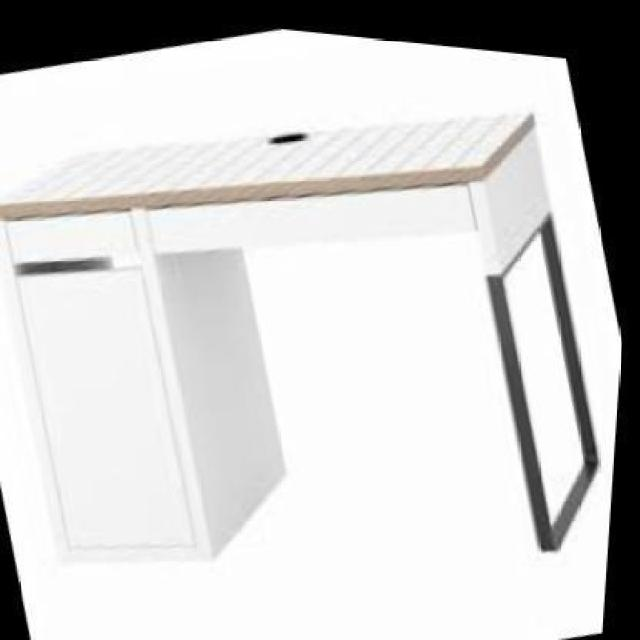tables: (0, 24, 629, 638)
